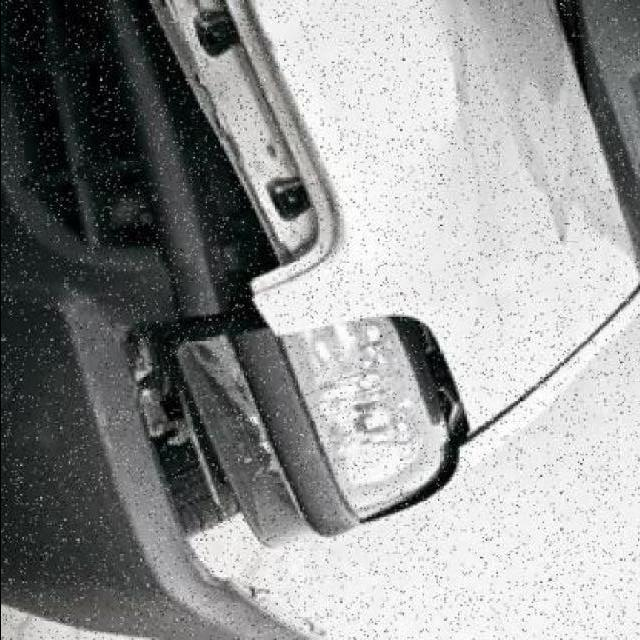front-bumper-dent: (1, 0, 329, 638)
